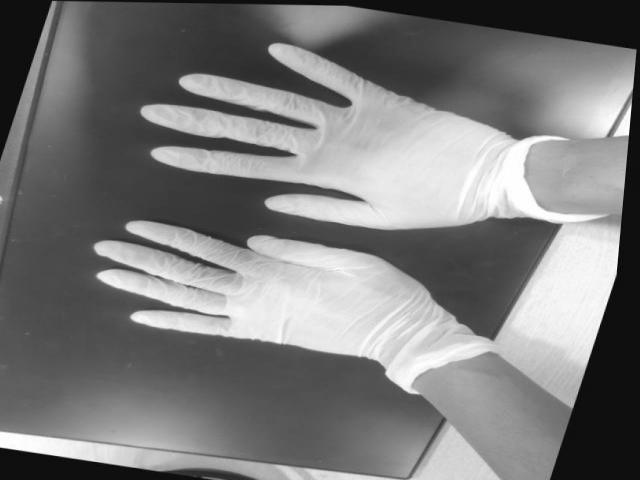gloved: (138, 40, 494, 230), (92, 218, 422, 364)
